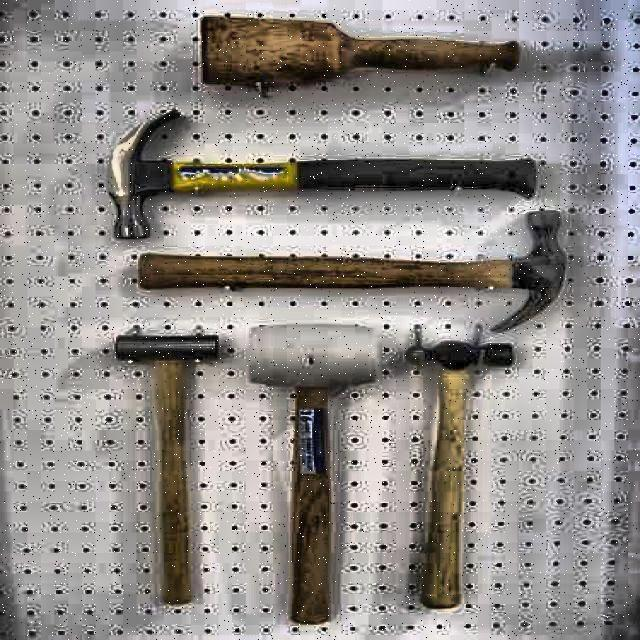hammer: (105, 107, 542, 239), (139, 208, 567, 328), (411, 341, 513, 610), (113, 335, 215, 602)
